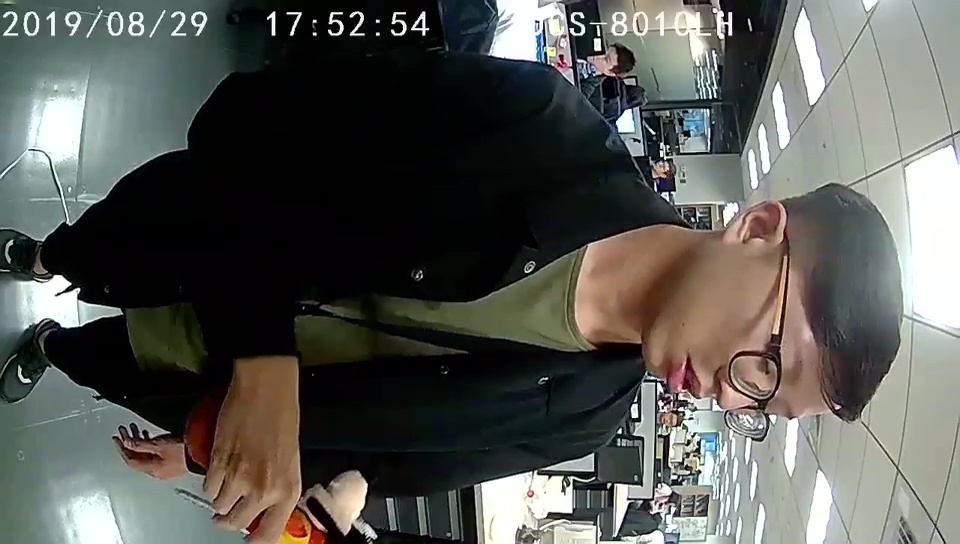goofy: (182, 392, 380, 544)
